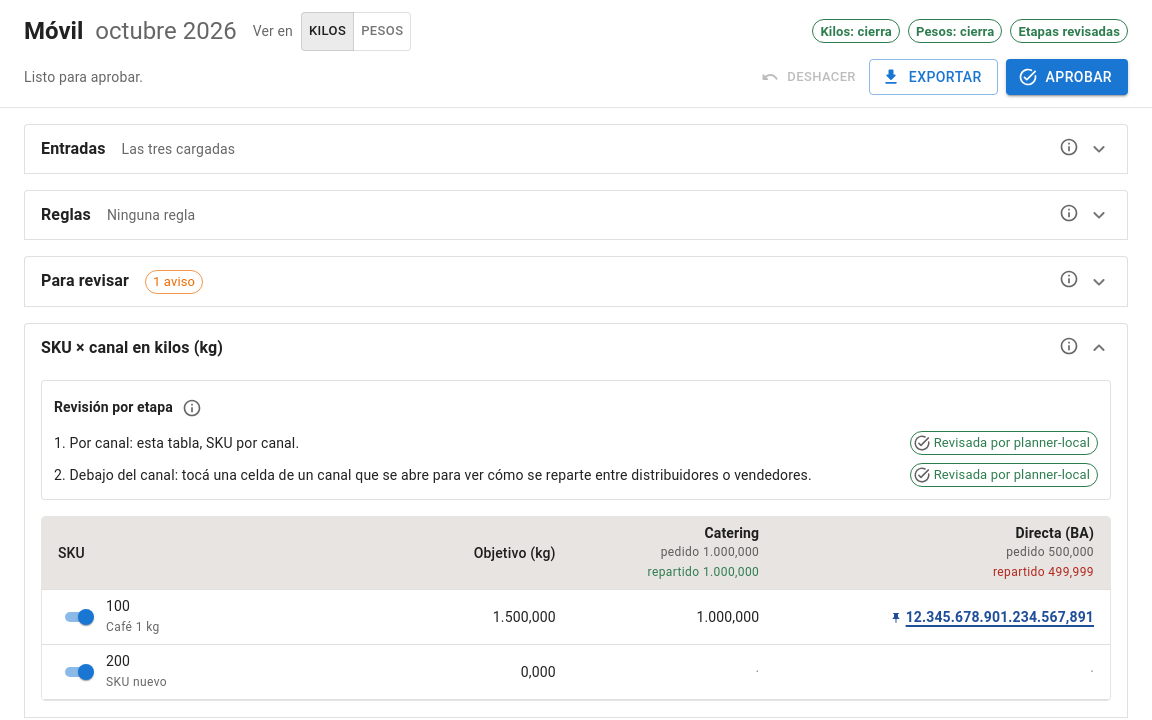
Scenario: MovilPage › exportar con cosas para revisar pide confirmar y las muestra
The image size is (1152, 720).
Click the button "Exportar" at (933, 77), box [869,59,998,95]
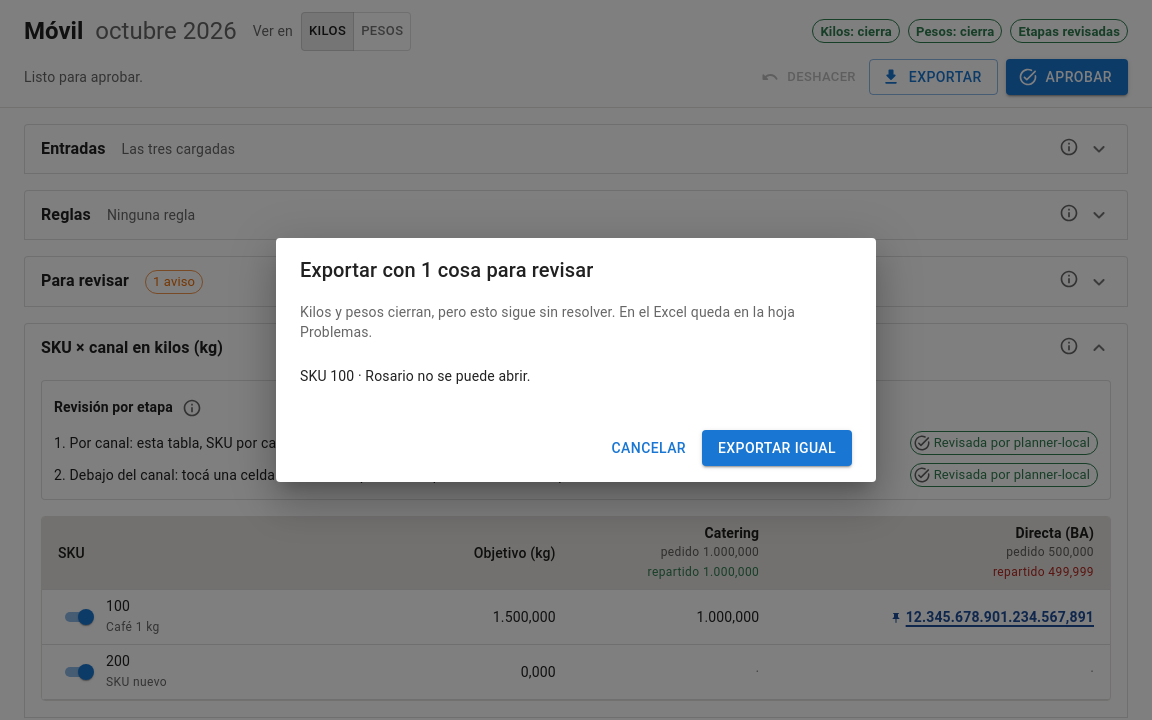
Result: the dialog shows "Rosario no se puede abrir." at [300,368,531,384]
